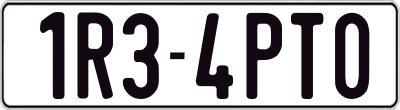0: (335, 11, 370, 100)
1: (40, 12, 64, 104)
3: (120, 11, 159, 99)
4: (193, 11, 230, 102)
P: (245, 11, 285, 97)
R: (76, 11, 116, 102)
T: (289, 11, 327, 102)
